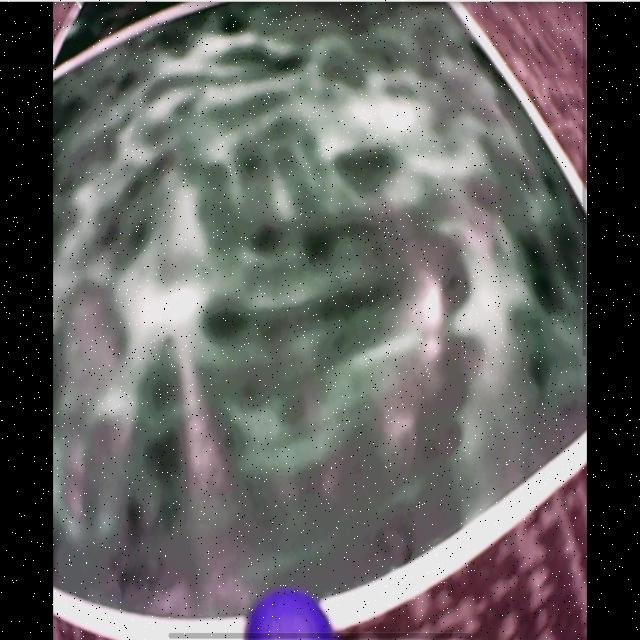ball: (244, 592, 334, 636)
